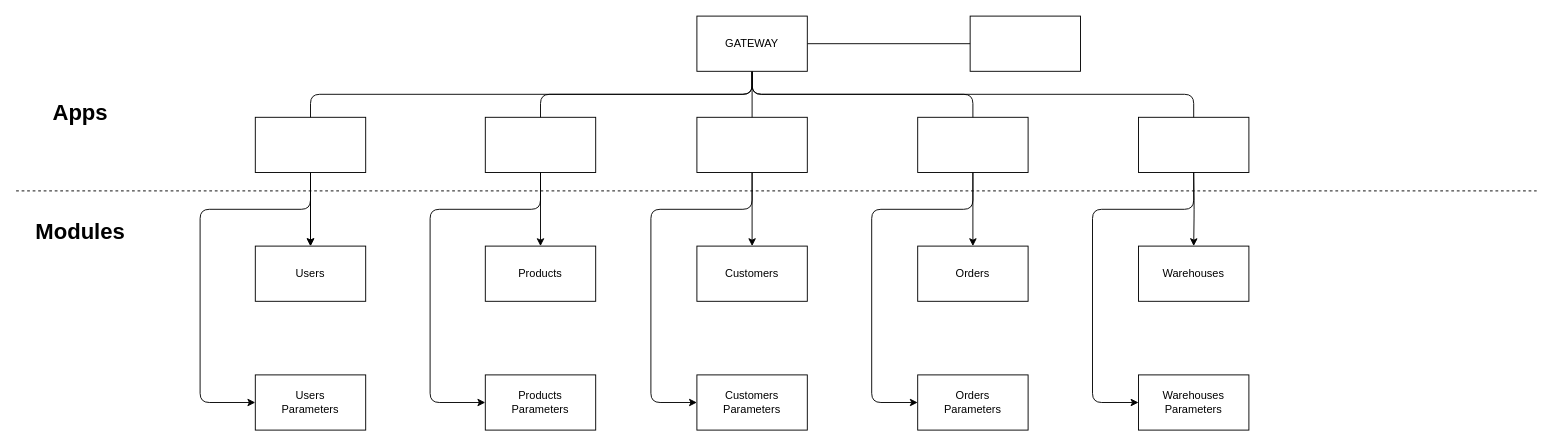
The diagram is 1554 pixels wide and 446 high, and some of its shapes have lost their labels. Each missing label, with the centre of its shape:
"MS - Auth" belongs at [1025,43].
"MS - Customers" belongs at [751,144].
"MS - Orders" belongs at [972,144].
"MS - Products" belongs at [540,144].
"MS - Users" belongs at [310,144].
"MS - Warehouses" belongs at [1193,144].
